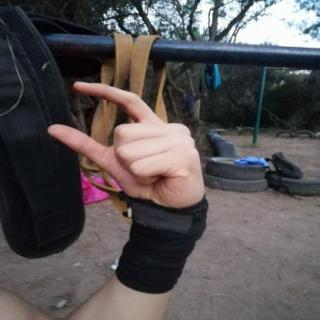DELL: (31, 74, 217, 220)
